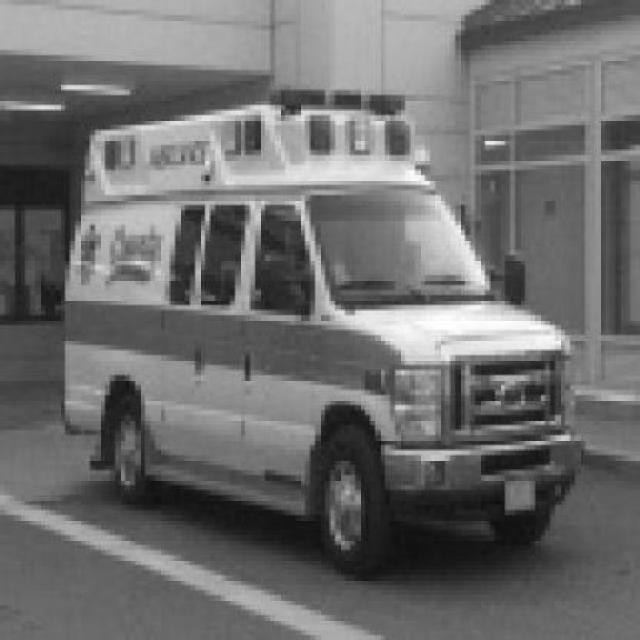Ambulance: (62, 89, 586, 584)
